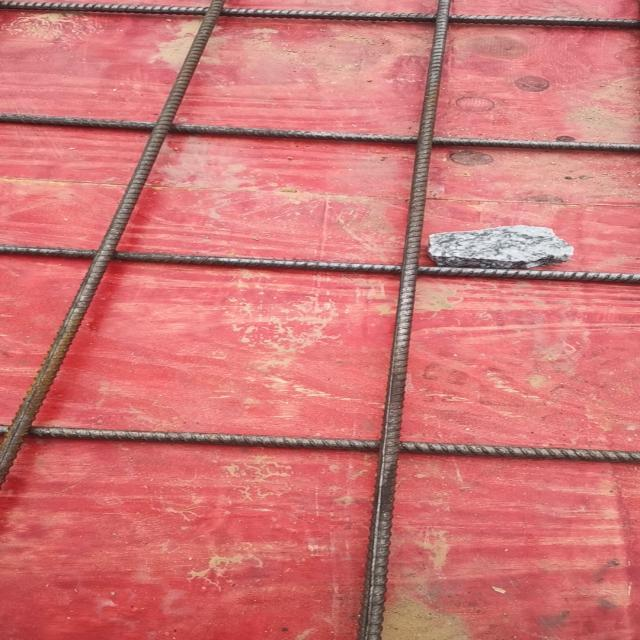ribbed bar: (0, 0, 228, 488), (355, 0, 449, 639), (0, 112, 639, 156), (0, 244, 639, 284), (0, 423, 639, 462), (0, 0, 639, 31)
